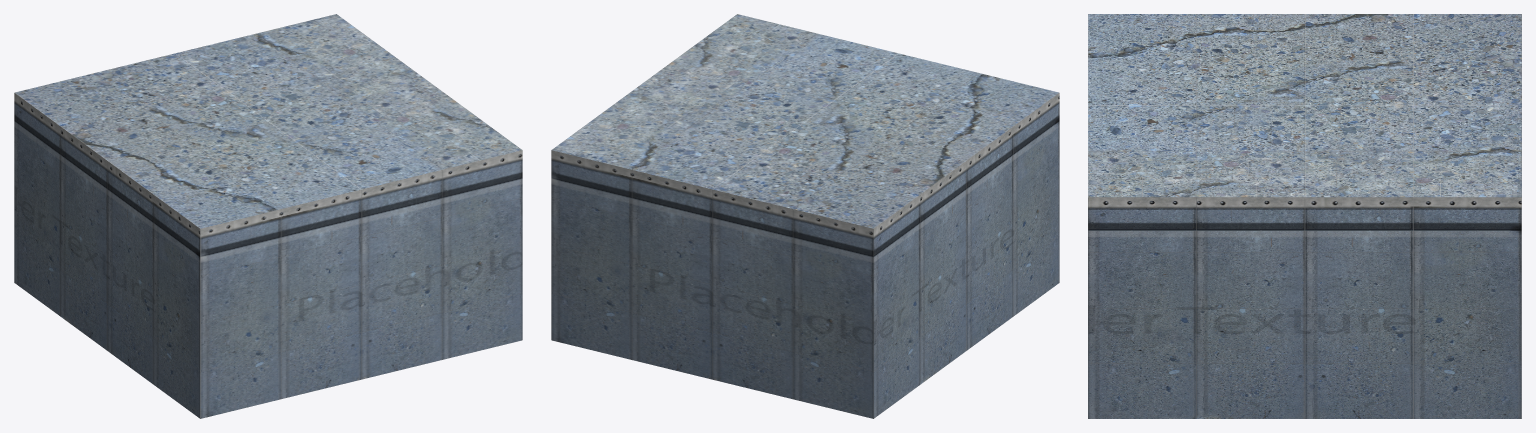
File: Building_Base_Test.dae
3 views of the same model, side by side, from view 1: azimuth 30°, elevation 25°; view 2: azimuth 150°, elevation 25°; view 3: azimuth 270°, elevation 25° (orthographic). The views are drawn at different scales.
Visible parts, largest first — view 1: Building_Base; view 2: Building_Base; view 3: Building_Base.
Part boxes in pixels (x1,y1,x2,y2): Building_Base: (14,14,522,418); Building_Base: (551,14,1059,418); Building_Base: (1088,14,1521,418).
Size of the model in its own units: 45.04 by 25.38 by 45.04.
